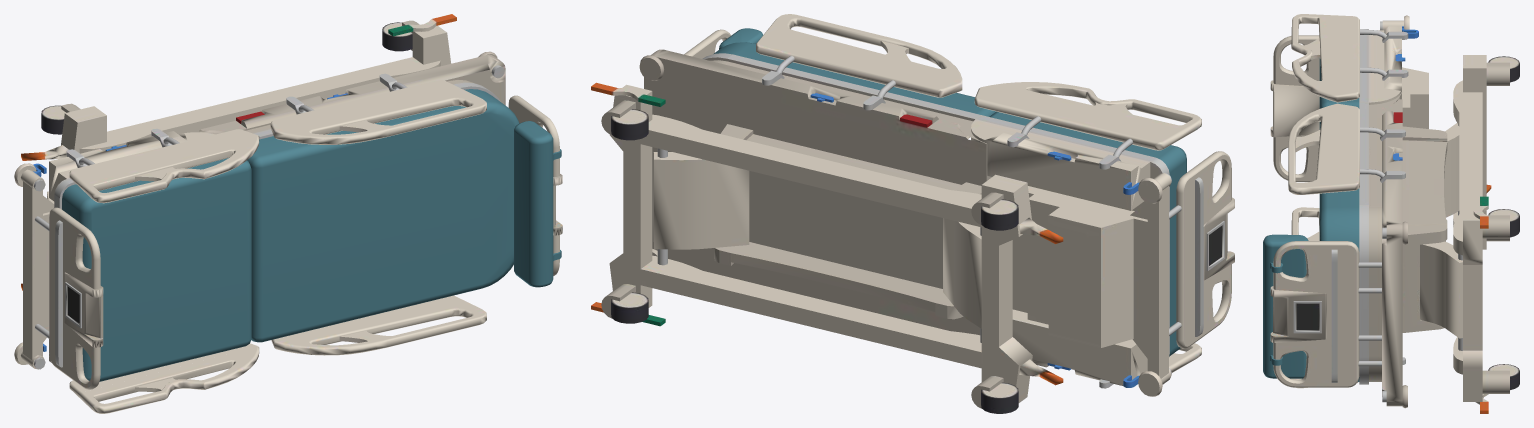
Rendered from hospital_bed.gltf.
3 views of the same model, side by side, from view 1: azimuth 30°, elevation 25°; view 2: azimuth 150°, elevation 25°; view 3: azimuth 270°, elevation 25° (orthographic). The views are drawn at different scales.
Parts seen in each view (by area): view 1: SM_HospitalBed,01a,LOD0; view 2: SM_HospitalBed,01a,LOD0; view 3: SM_HospitalBed,01a,LOD0.
Part boxes in pixels (box(x1,y1,x2,y2)): SM_HospitalBed,01a,LOD0: box(14, 14, 562, 413); SM_HospitalBed,01a,LOD0: box(591, 14, 1234, 413); SM_HospitalBed,01a,LOD0: box(1263, 14, 1519, 413).
Size of the model in its own units: 2.55 by 1.11 by 1.28.
Materials: 2 (1 with a texture image).
